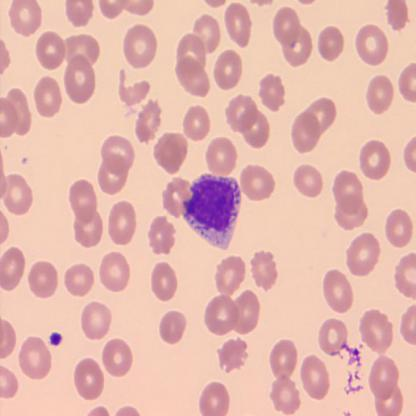Myelocyte: (186, 172, 240, 237)
